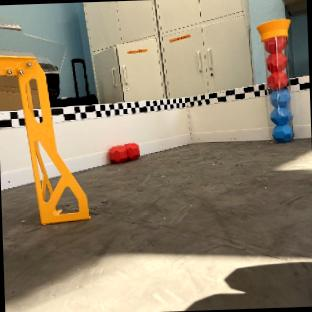Goal: (0, 54, 90, 224)
V5_BLUE: (270, 89, 291, 141)
V5_RED: (266, 35, 288, 89), (109, 143, 140, 163), (267, 70, 288, 89)
